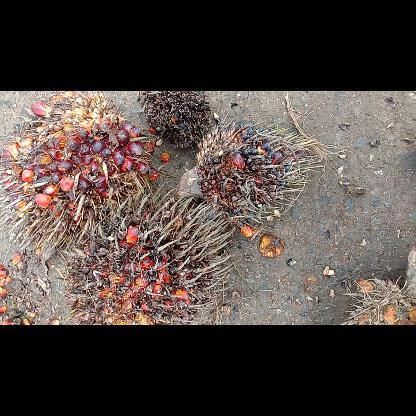TBS abnormal: (174, 117, 324, 226), (140, 92, 214, 152)
TBS masak: (0, 92, 159, 255)
Terlalu masak: (57, 182, 234, 324)
